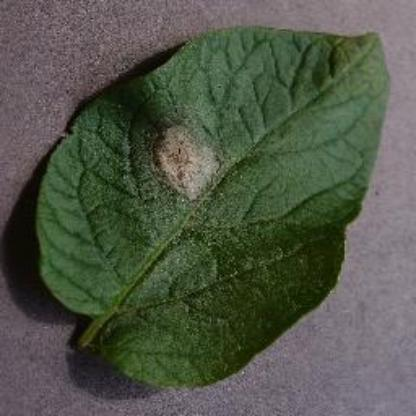Late-Blight: (15, 18, 409, 396)
